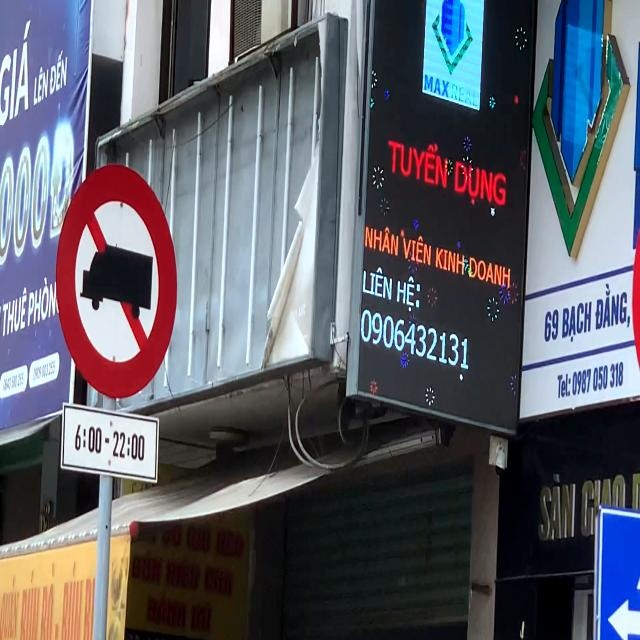bien_cam: (54, 156, 178, 396)
